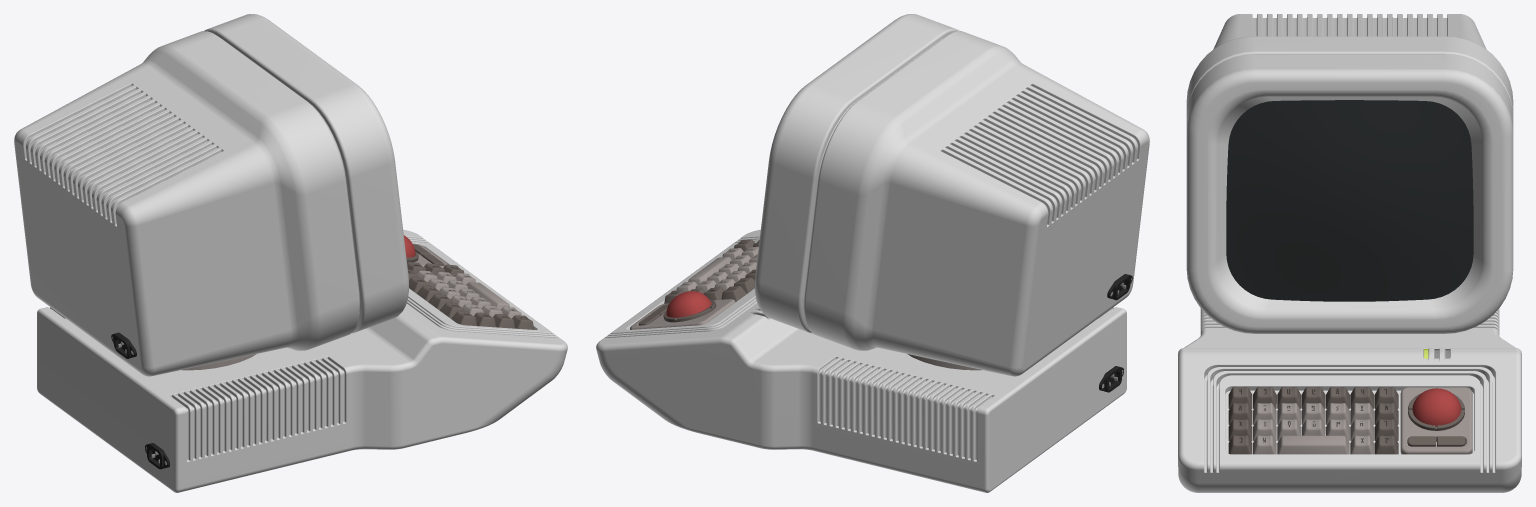
3 renders of one model, left to right at view 1: azimuth 30°, elevation 25°; view 2: azimuth 150°, elevation 25°; view 3: azimuth 270°, elevation 25°, orthographic. The views are drawn at different scales.
Visible parts, largest first — view 1: Part2, Part1; view 2: Part2, Part1; view 3: Part2, Plane, Part1.
Part boxes in pixels (<box>): Part2: <box>14,14,567,492</box>; Part1: <box>111,235,533,469</box>; Part2: <box>596,14,1149,492</box>; Part1: <box>630,239,1132,392</box>; Part2: <box>1178,14,1521,492</box>; Plane: <box>1226,100,1473,301</box>; Part1: <box>1228,349,1472,454</box>.
Bounding box in the file's own units: 2 × 1.55 × 1.32.
Materials: 3 (1 with a texture image).
